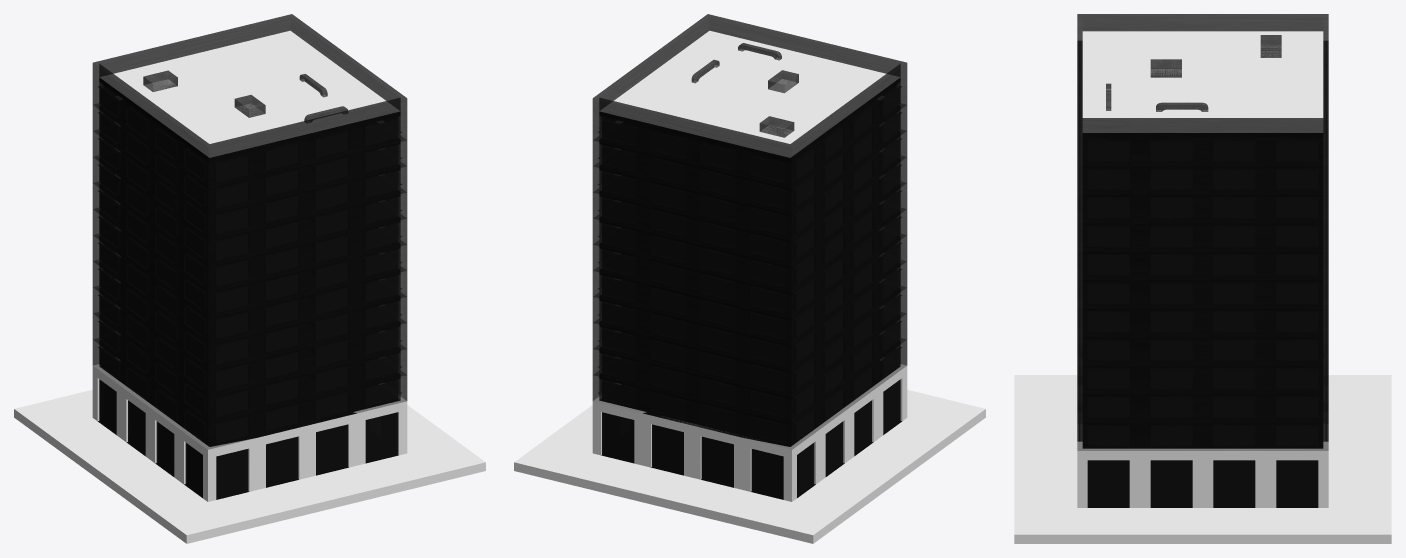
The model's file is black_glass_14.glb.
3 renders of one model, left to right at view 1: azimuth 30°, elevation 25°; view 2: azimuth 150°, elevation 25°; view 3: azimuth 270°, elevation 25°, orthographic. The views are drawn at different scales.
Visible parts, largest first — view 1: black_glass_14; view 2: black_glass_14; view 3: black_glass_14.
Boxes of the visible parts, x1,y1,x2,y2 form: black_glass_14: (14,14,485,543); black_glass_14: (514,14,985,543); black_glass_14: (1014,14,1391,543).
Bounding box in the file's own units: 43.2 × 50.21 × 43.2.
6 materials, 5 textured.
